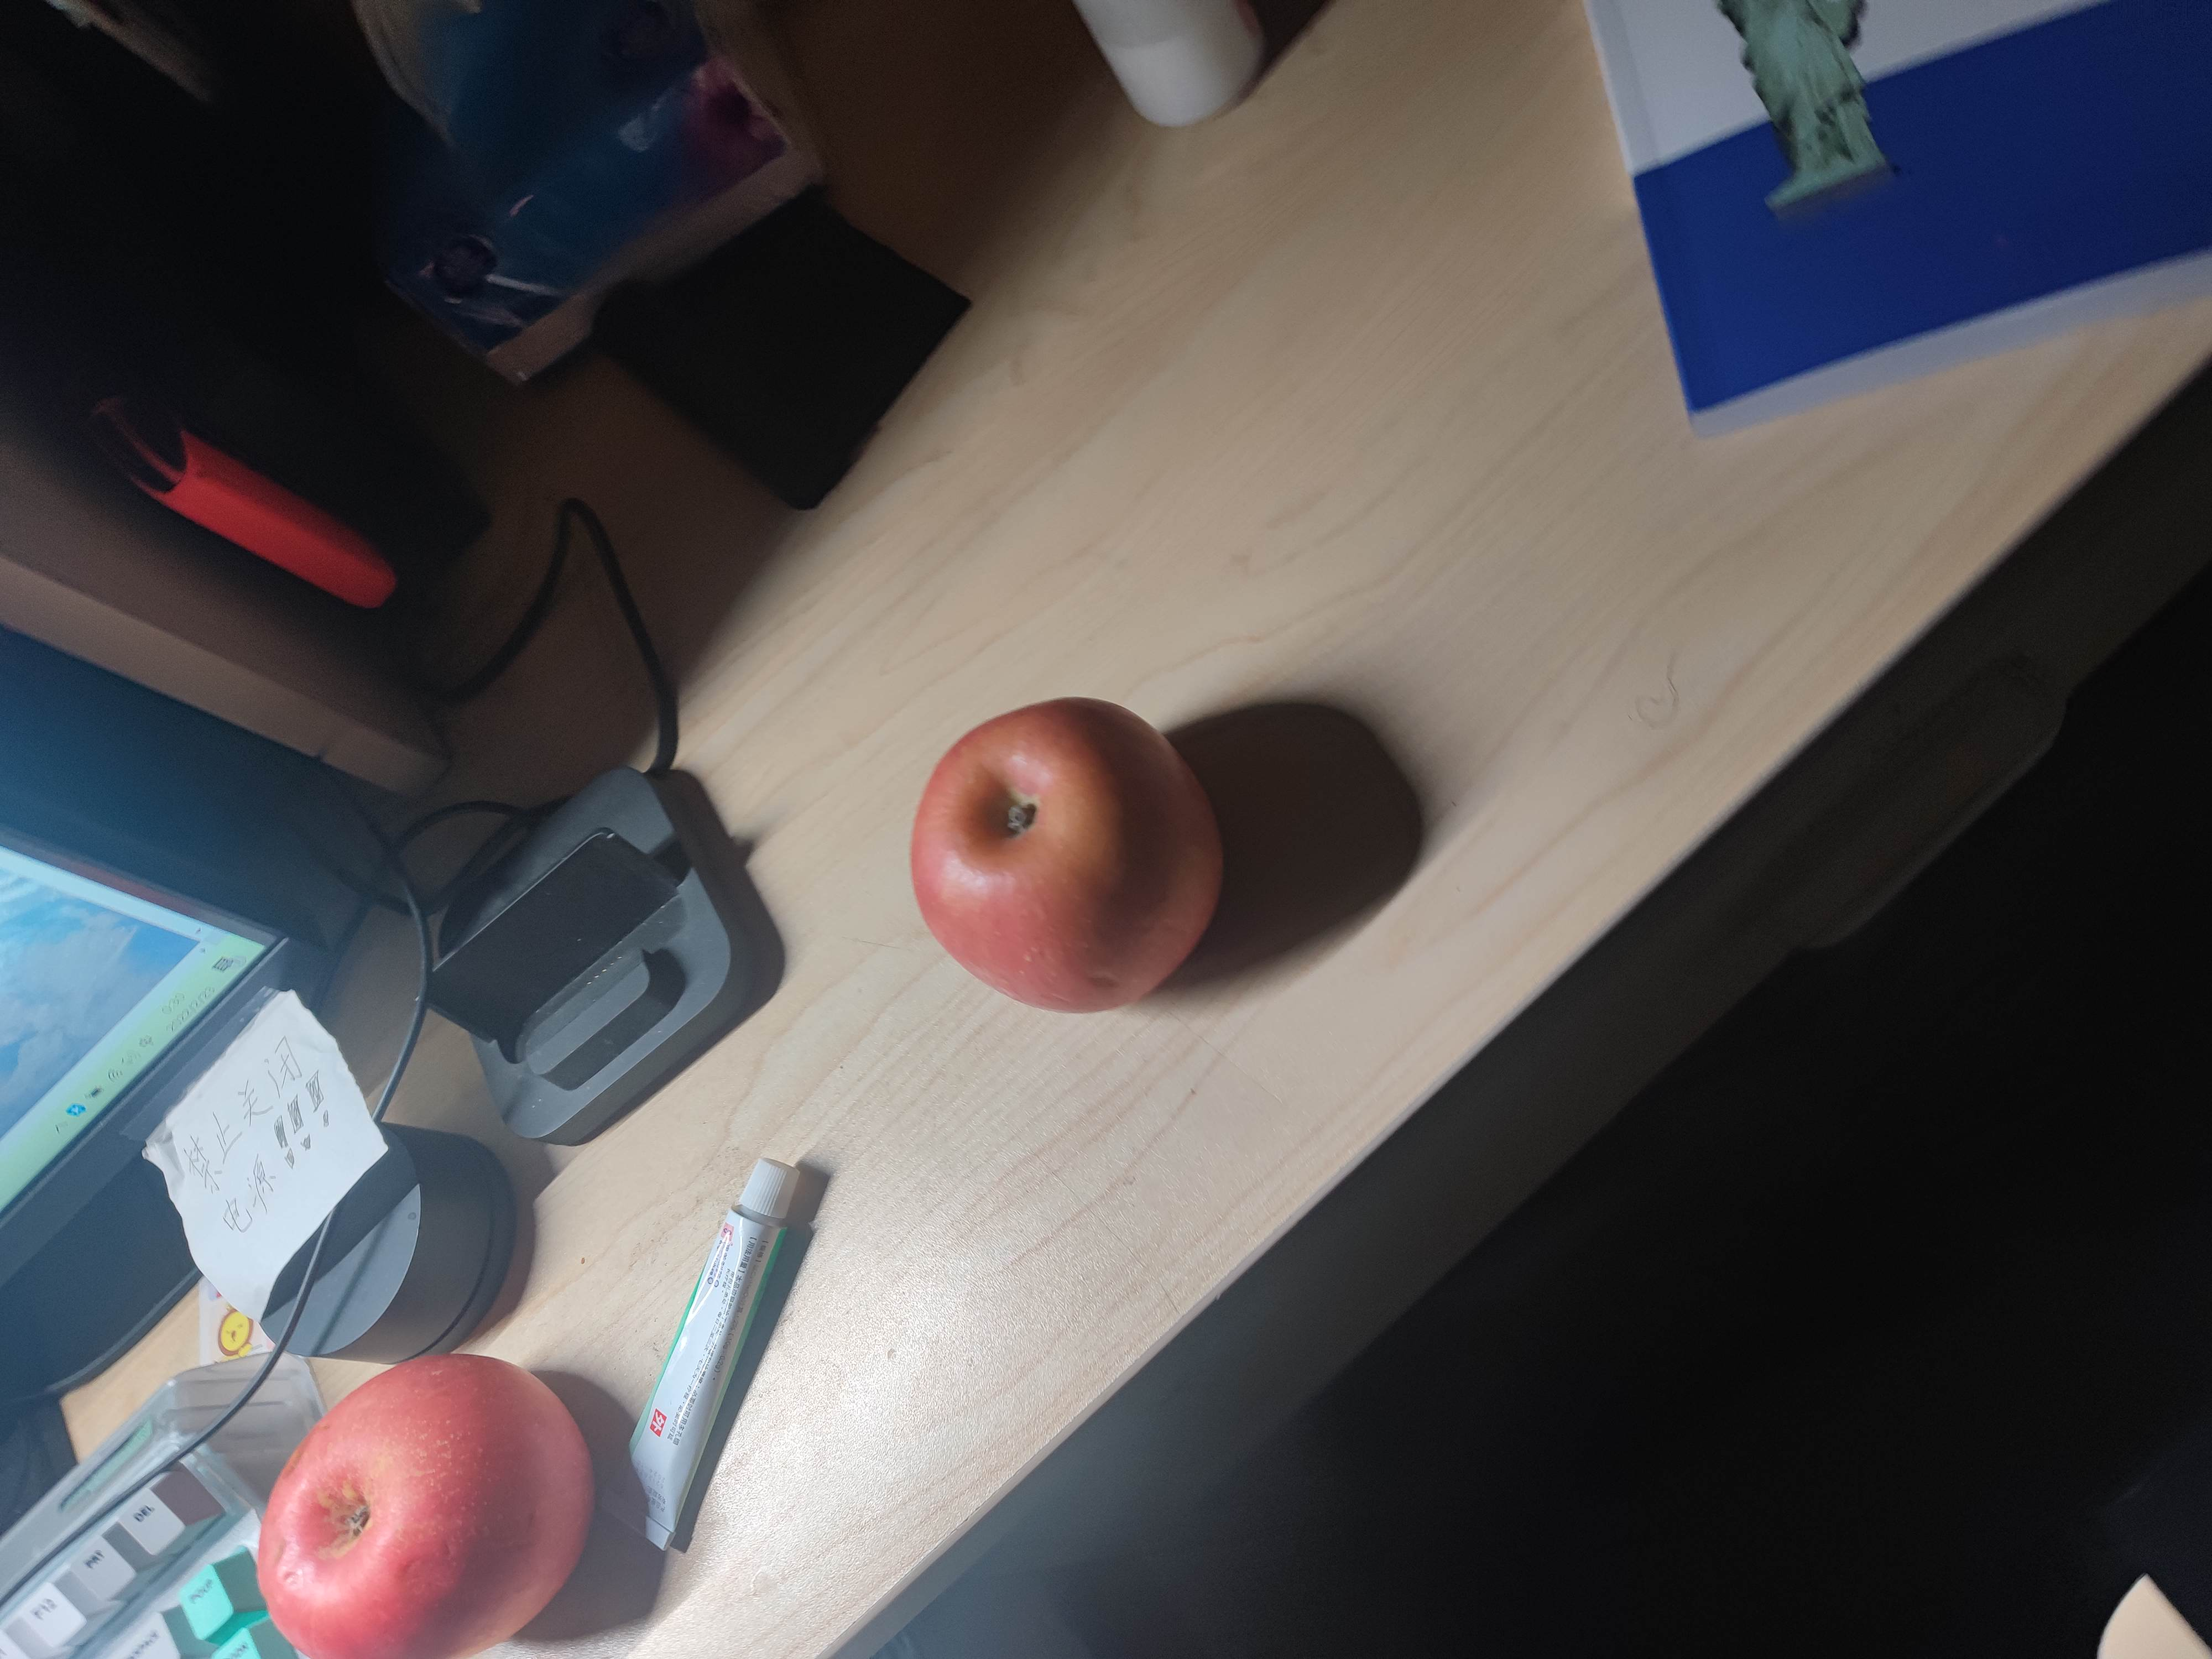apple: (907, 694, 1219, 1014)
